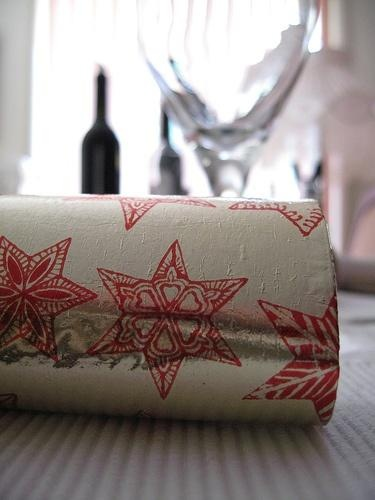bottle: (82, 67, 121, 196), (147, 106, 183, 199)
